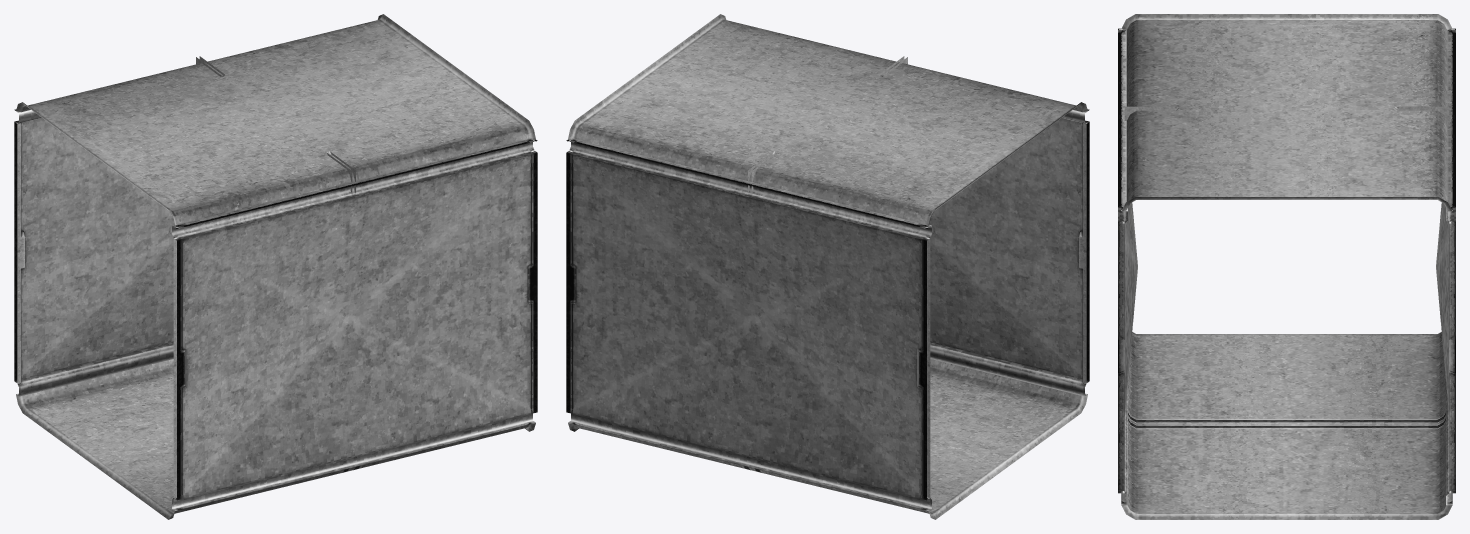
File: vent_shaft_straight.dae
3 views of the same model, side by side, from view 1: azimuth 30°, elevation 25°; view 2: azimuth 150°, elevation 25°; view 3: azimuth 270°, elevation 25° (orthographic). The views are drawn at different scales.
Visible parts, largest first — view 1: straight; view 2: straight; view 3: straight.
Boxes of the visible parts, x1=… form: straight: x1=14, y1=14, x2=537, y2=519; straight: x1=566, y1=14, x2=1089, y2=519; straight: x1=1118, y1=14, x2=1455, y2=519.
Size of the model in its own units: 2 by 1.65 by 1.56.
